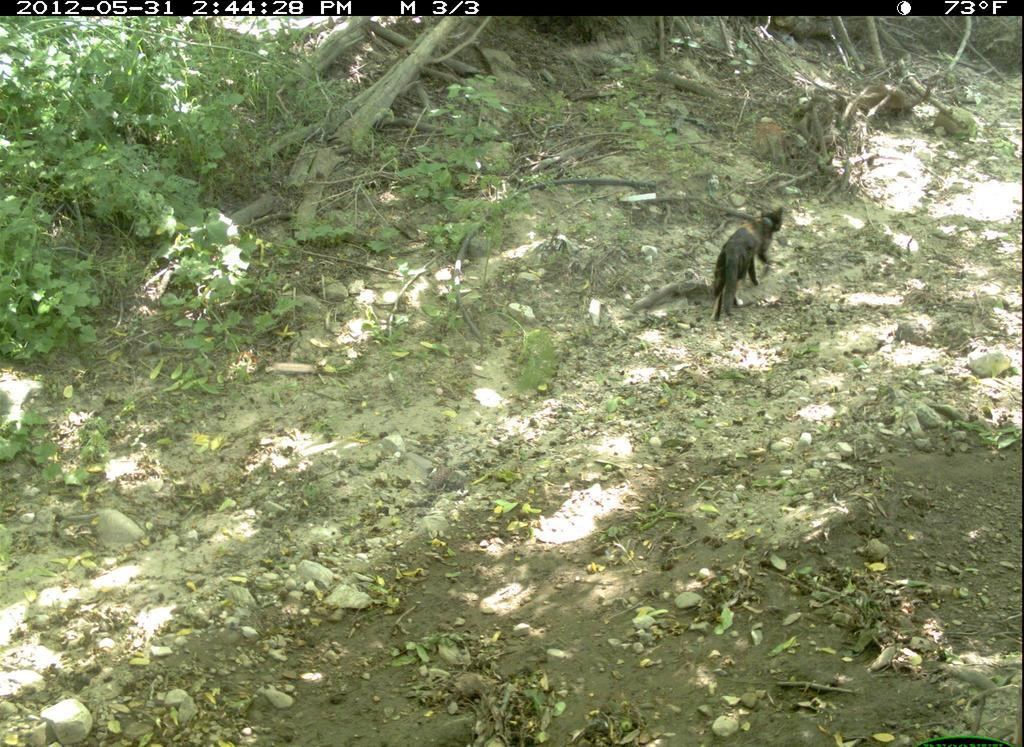cat: (708, 203, 790, 322)
